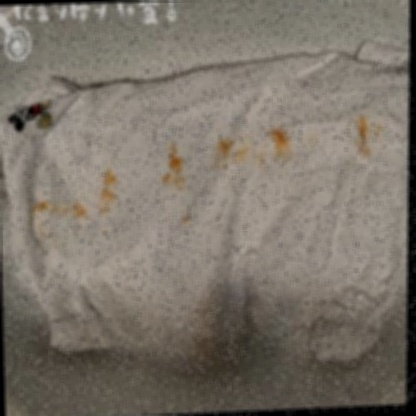kimchi: (28, 184, 119, 233), (208, 130, 303, 174), (155, 143, 194, 195), (354, 114, 387, 160), (95, 164, 123, 192), (174, 210, 194, 229)
